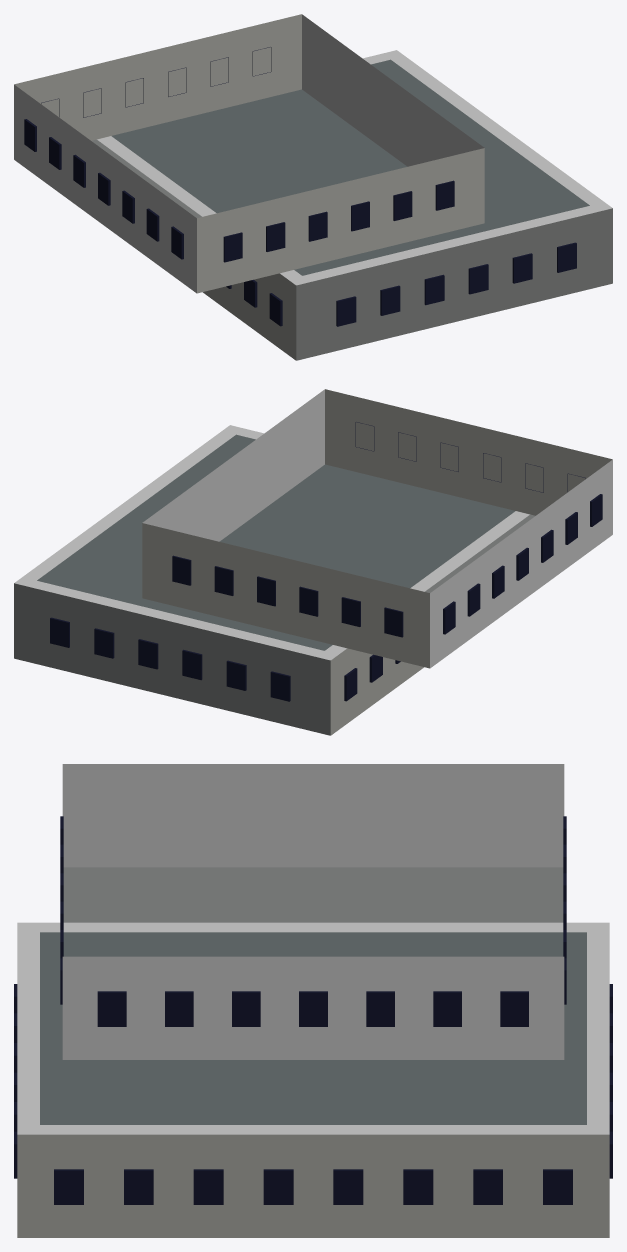
File: TB_CITY_Skysc_S_Mid_Top_Gray.FBX
3 renders of one model, top to bottom at view 1: azimuth 30°, elevation 25°; view 2: azimuth 150°, elevation 25°; view 3: azimuth 270°, elevation 25°, orthographic. The views are drawn at different scales.
Visible parts, largest first — view 1: TB_CITY_Skysc_S_Mid_Top_Gray; view 2: TB_CITY_Skysc_S_Mid_Top_Gray; view 3: TB_CITY_Skysc_S_Mid_Top_Gray.
Boxes of the visible parts, <box> form: TB_CITY_Skysc_S_Mid_Top_Gray: <box>14,14,612,360</box>; TB_CITY_Skysc_S_Mid_Top_Gray: <box>14,389,612,735</box>; TB_CITY_Skysc_S_Mid_Top_Gray: <box>14,764,612,1237</box>.
Size of the model in its own units: 28.07 by 10 by 26.28.
